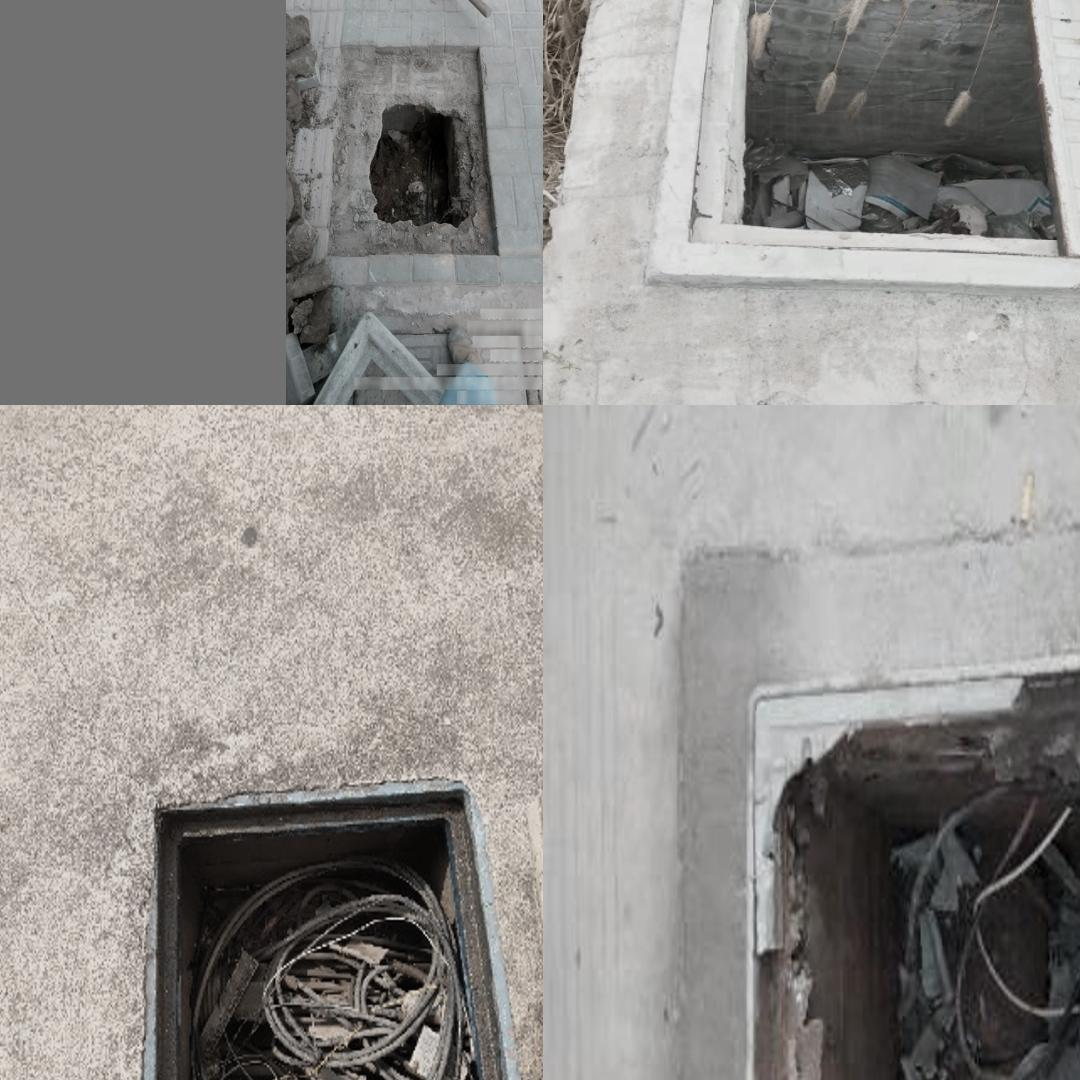lose: (743, 631, 1080, 1080), (643, 0, 1080, 288), (135, 778, 541, 1080), (325, 43, 498, 254)
